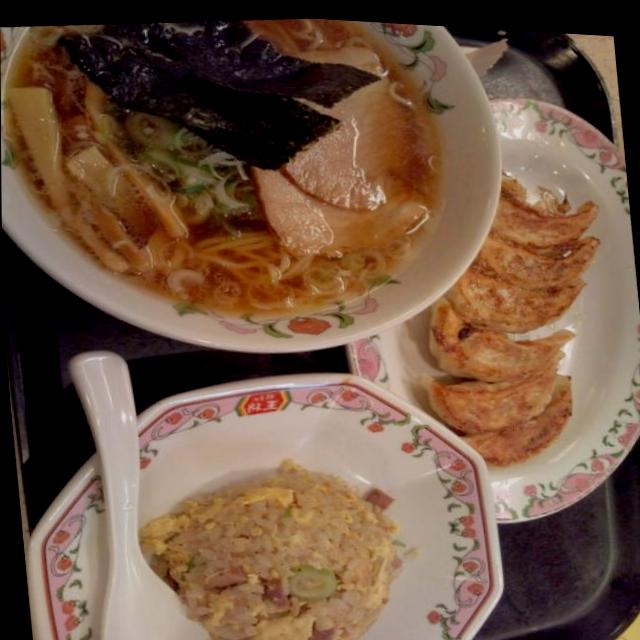带馅早点: (406, 131, 628, 490)
米饭主食: (146, 446, 419, 640)
面条主食: (0, 0, 476, 368)
